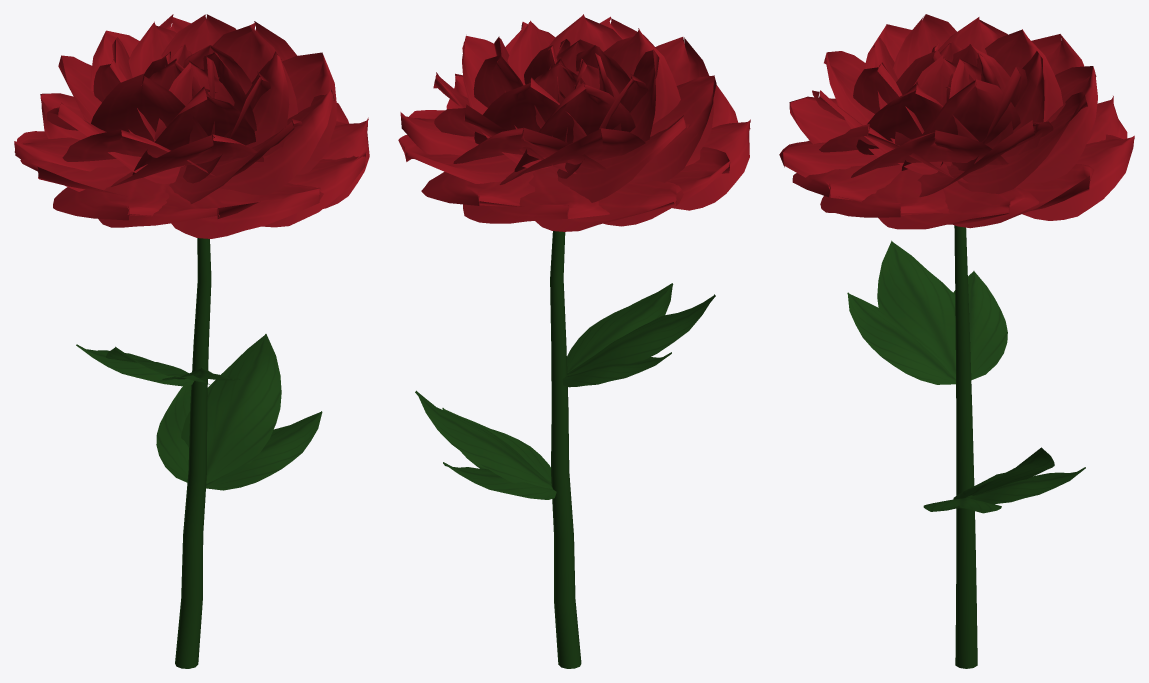
File: red_peony.glb
3 renders of one model, left to right at view 1: azimuth 30°, elevation 25°; view 2: azimuth 150°, elevation 25°; view 3: azimuth 270°, elevation 25°, orthographic.
Parts seen in each view (by area): view 1: Red_Peony; view 2: Red_Peony; view 3: Red_Peony.
Boxes of the visible parts, left/top/right/bottom form: Red_Peony: left=14, top=14, right=369, bottom=668; Red_Peony: left=398, top=14, right=750, bottom=668; Red_Peony: left=779, top=14, right=1134, bottom=668.
Bounding box in the file's own units: 0.1255 × 0.2409 × 0.1252.
Materials: 2 (2 with a texture image).
